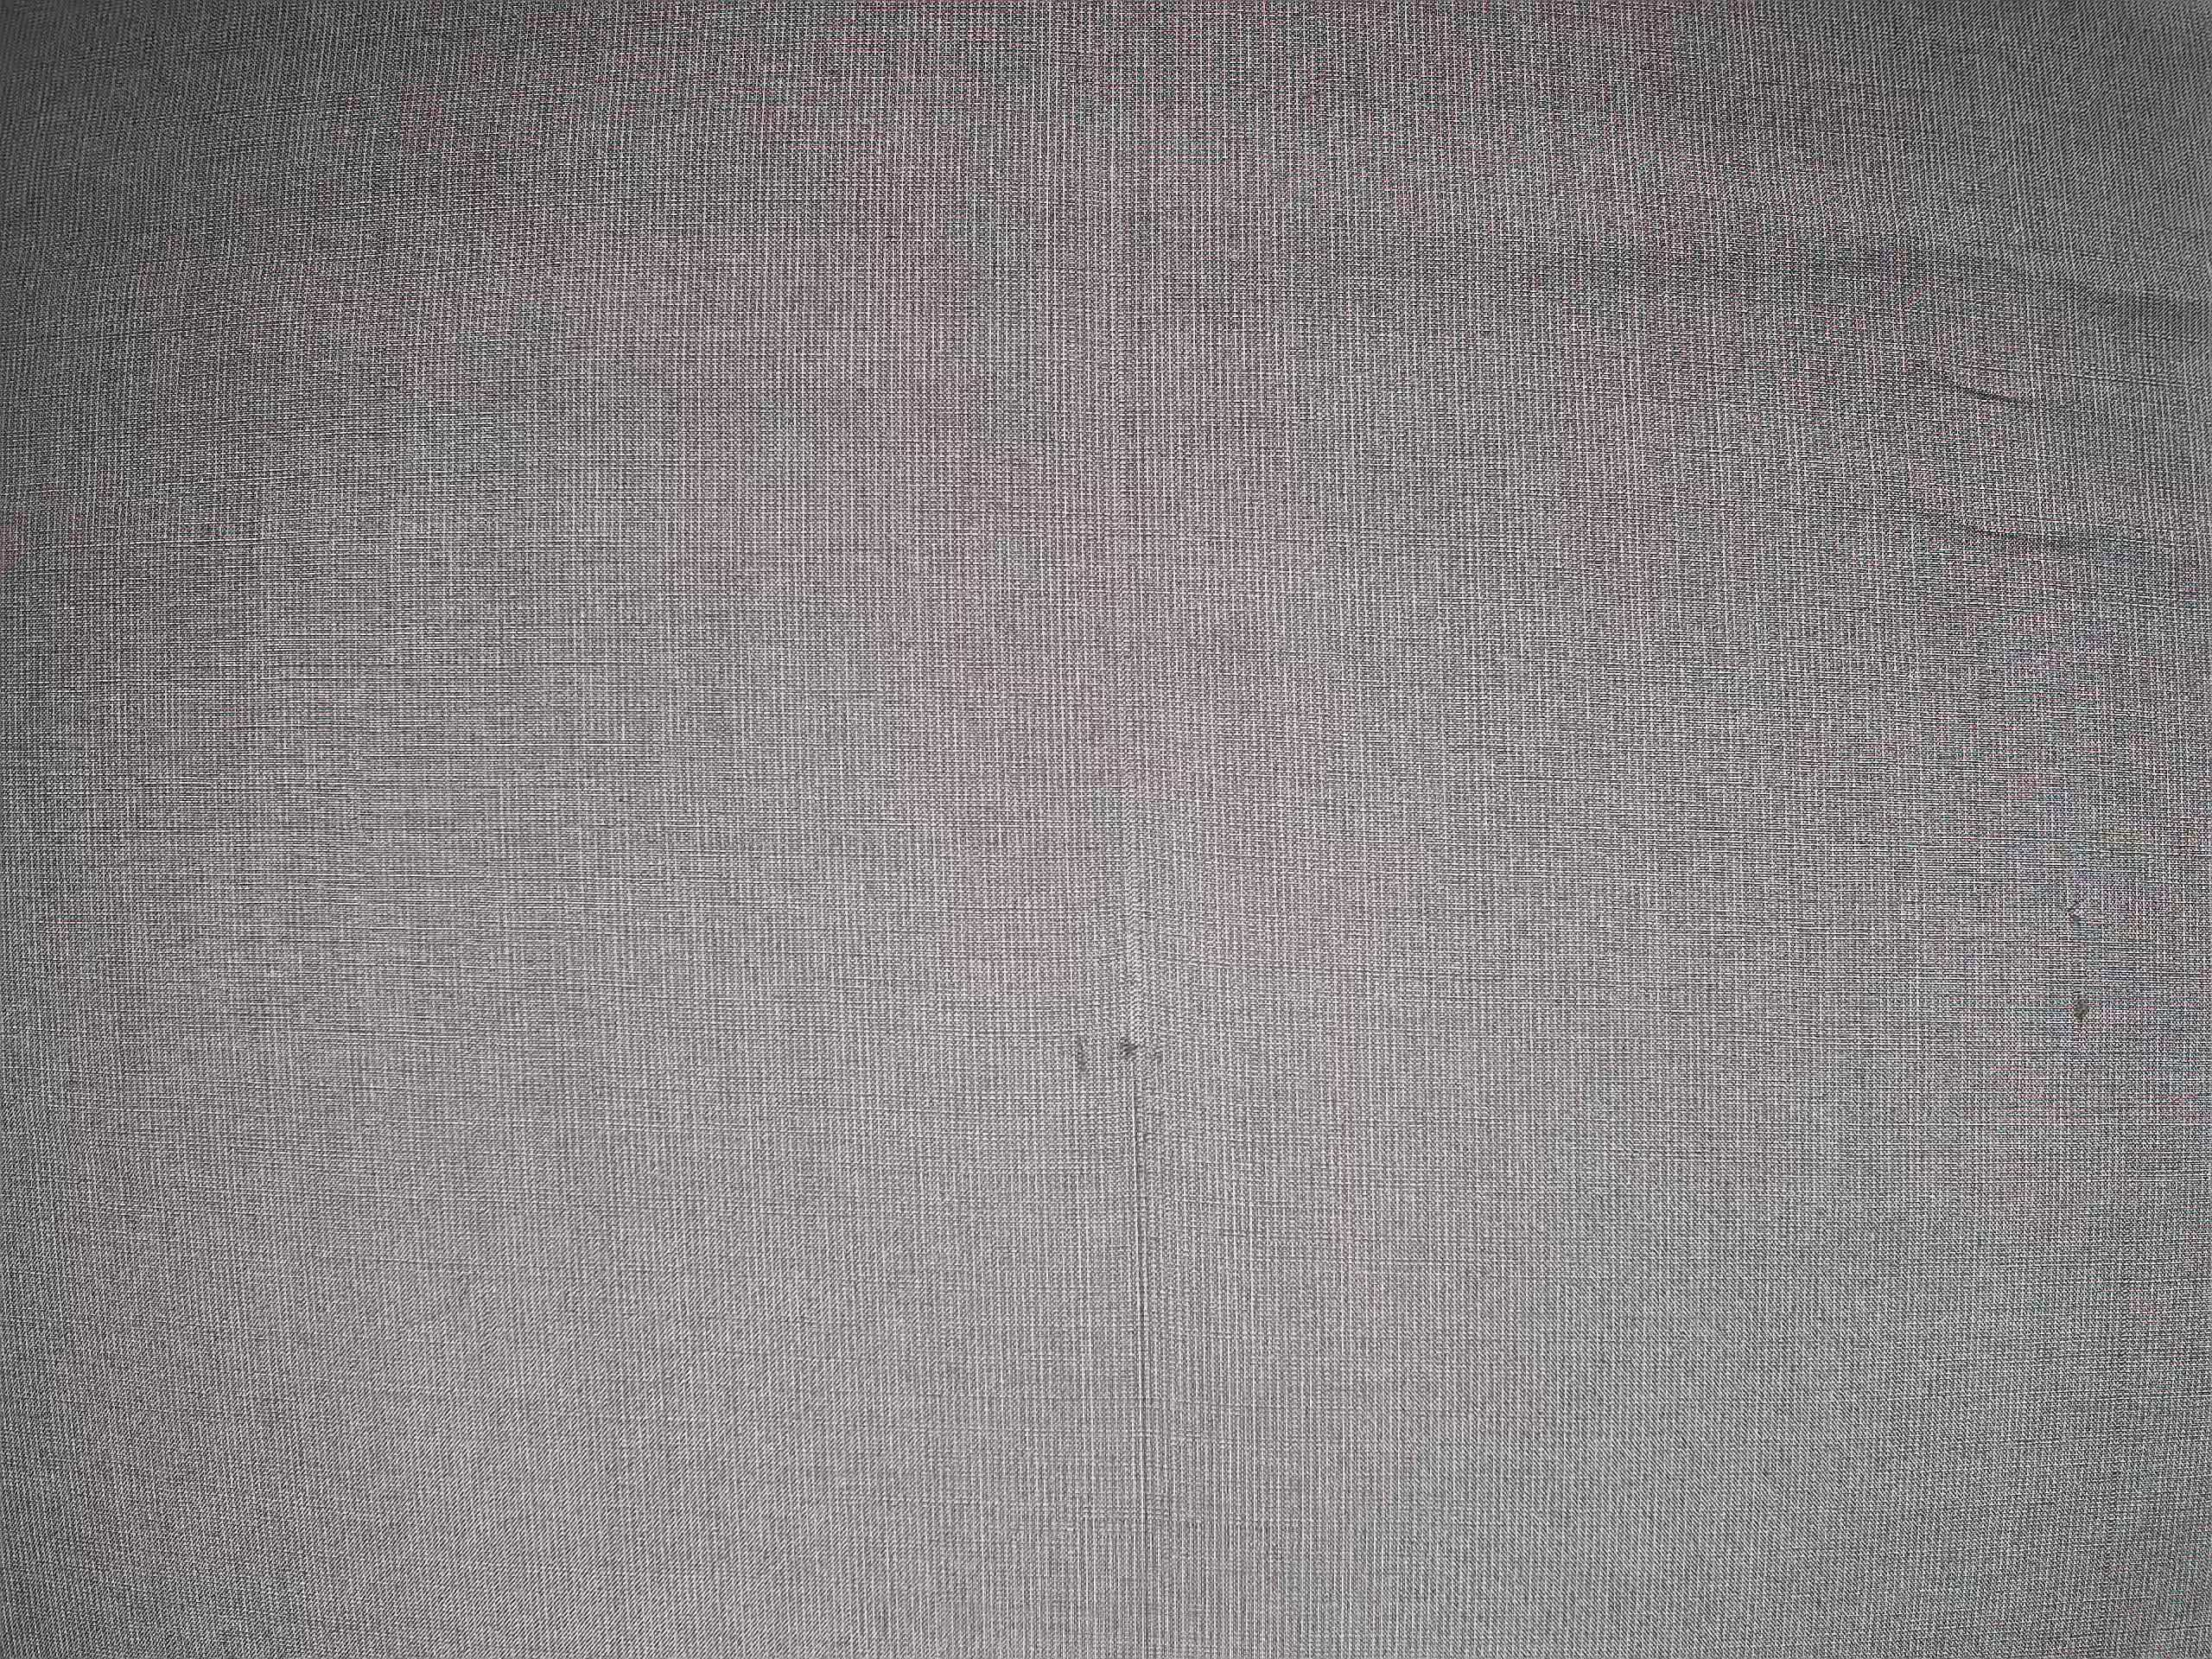hanging-warp: (1066, 3, 1167, 1659)
